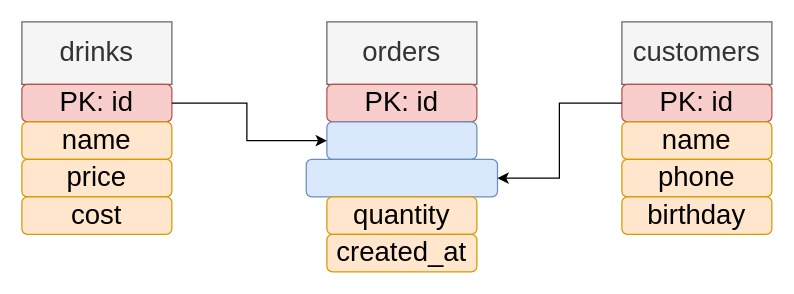
Image size: 794x294. Some labels were removed from this diagram. Each missing label, with the centre of its shape:
FK: customer _id: point (401, 177)
FK: drink_id: point (401, 140)
